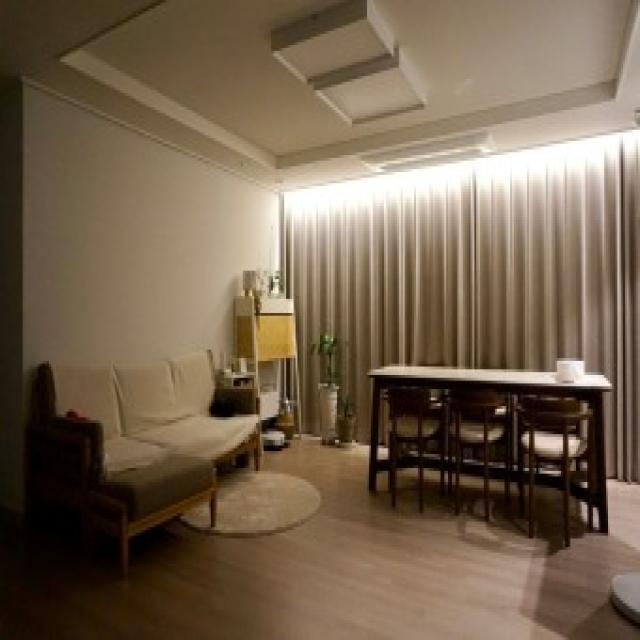Chair: (515, 386, 600, 539), (445, 378, 511, 525), (383, 372, 438, 510)
Sofa: (29, 333, 264, 560)
Table: (366, 359, 621, 545)
window: (280, 195, 633, 356)
